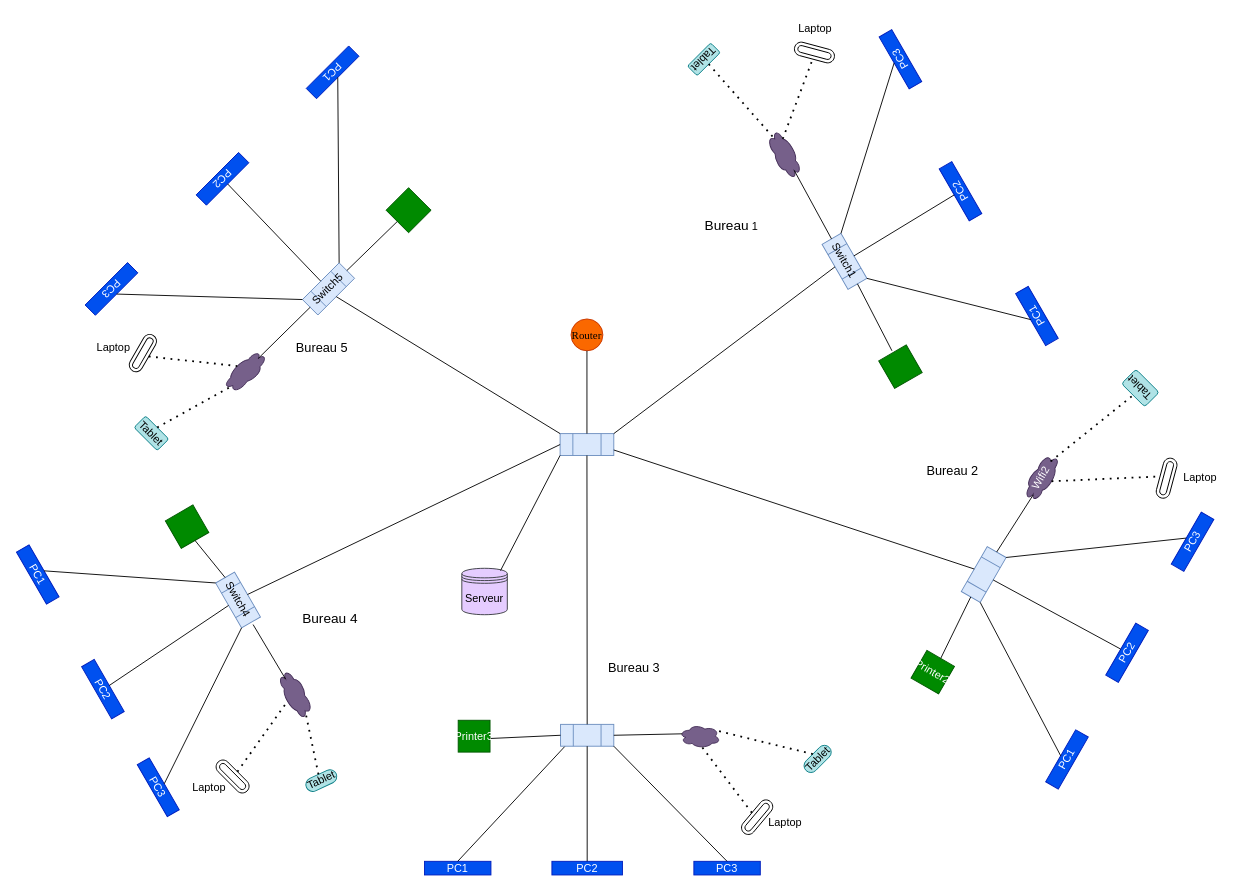
Image size: 1244x891. Some labels were removed from this diagram. Each missing label, with the box of its shape:
Printer1: (878, 344, 922, 389)
Printer4: (164, 504, 209, 549)
Printer5: (385, 187, 431, 233)
Switch Central: (559, 433, 614, 455)
Switch2: (960, 545, 1006, 603)
Switch3: (560, 723, 614, 746)
Wifi1: (760, 126, 808, 184)
Wifi3: (678, 723, 720, 748)
Wifi4: (271, 664, 319, 722)
Wifi5: (219, 344, 273, 399)
